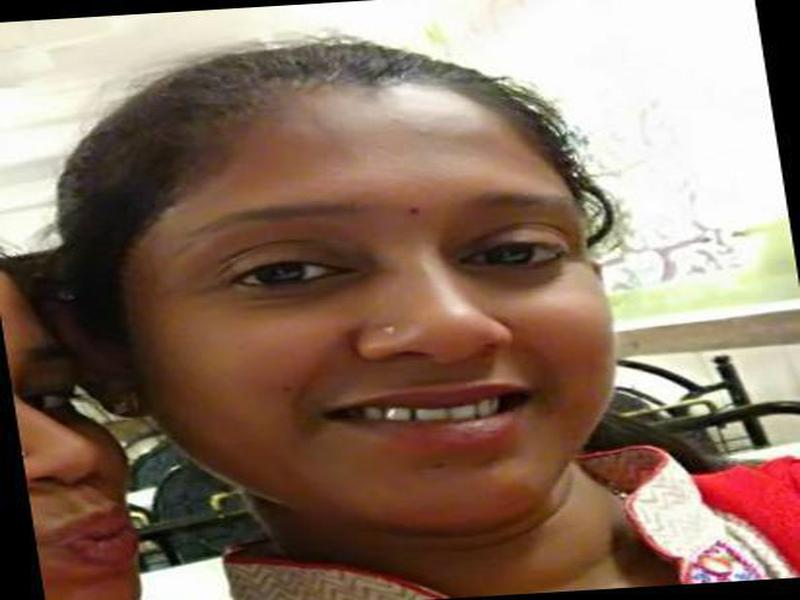without_mask: (133, 131, 621, 534)
